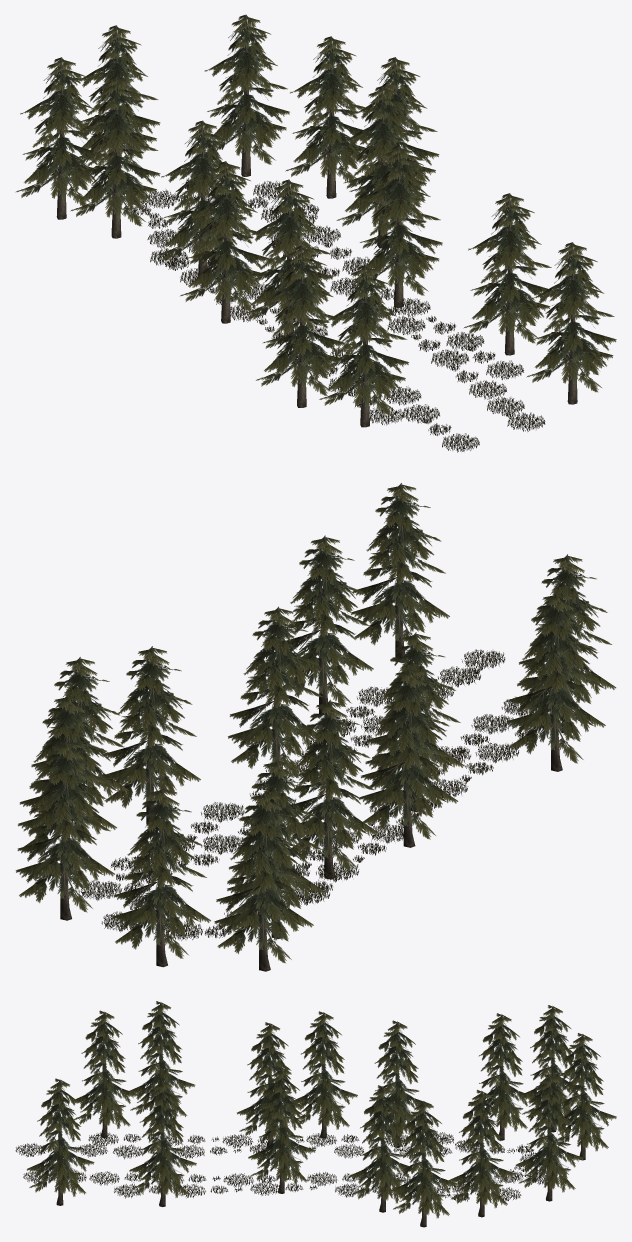
File: forest-scene.glb
3 views of the same model, one above another, from view 1: azimuth 30°, elevation 25°; view 2: azimuth 150°, elevation 25°; view 3: azimuth 270°, elevation 25° (orthographic). The views are drawn at different scales.
Parts seen in each view (by area): view 1: Branches_Branches_lp_0.007, Branches_Branches_lp_0.006, Branches_Branches_lp_0.009, Branches_Branches_lp_0.005, Branches_Branches_lp_0.001, Branches_Branches_lp_0.008, Branches_Branches_lp_0.011, Branches_Branches_lp_0.003, Branches_Branches_lp_0.014, Branches_Branches_lp_0.012, Branches_Branches_lp_0.002, Branches (+3 smaller); view 2: Branches_Branches_lp_0.011, Branches_Branches_lp_0.014, Branches_Branches_lp_0.001, Branches_Branches_lp_0.008, Branches_Branches_lp_0.010, Branches_Branches_lp_0.003, Branches_Branches_lp_0.006, Branches_Branches_lp_0.004, Branches, Branches_Branches_lp_0.005, Branches_Branches_lp_0.012, Branches_Branches_lp_0.007 (+3 smaller); view 3: Branches_Branches_lp_0.013, Branches_Branches_lp_0.006, Branches_Branches_lp_0.012, Branches_Branches_lp_0.003, Branches_Branches_lp_0.005, Branches_Branches_lp_0.007, Branches_Branches_lp_0.011, Branches_Branches_lp_0.001, Branches_Branches_lp_0.004, Branches_Branches_lp_0.010, Branches_Branches_lp_0.009, Branches_Branches_lp_0.008 (+3 smaller).
Part boxes in pixels (box(x1,y1,x2,y2)): Branches_Branches_lp_0.007: box(319, 265, 408, 414); Branches_Branches_lp_0.006: box(526, 242, 616, 392); Branches_Branches_lp_0.009: box(70, 76, 160, 226); Branches_Branches_lp_0.005: box(463, 193, 552, 343); Branches_Branches_lp_0.001: box(179, 161, 269, 311); Branches_Branches_lp_0.008: box(256, 245, 345, 395); Branches_Branches_lp_0.011: box(204, 14, 289, 164); Branches_Branches_lp_0.003: box(352, 145, 442, 295); Branches_Branches_lp_0.014: box(15, 57, 103, 205); Branches_Branches_lp_0.012: box(285, 36, 371, 186); Branches_Branches_lp_0.002: box(242, 179, 332, 329); Branches: box(156, 120, 246, 265); Branches_Branches_lp_0.011: box(15, 740, 114, 912); Branches_Branches_lp_0.014: box(214, 791, 313, 963); Branches_Branches_lp_0.001: box(359, 668, 458, 839); Branches_Branches_lp_0.008: box(506, 592, 605, 763); Branches_Branches_lp_0.010: box(112, 787, 210, 958); Branches_Branches_lp_0.003: box(228, 606, 322, 778); Branches_Branches_lp_0.006: box(351, 483, 449, 650); Branches_Branches_lp_0.004: box(104, 646, 200, 809); Branches: box(284, 699, 378, 871); Branches_Branches_lp_0.005: box(282, 535, 373, 706); Branches_Branches_lp_0.012: box(18, 694, 116, 862); Branches_Branches_lp_0.007: box(517, 554, 616, 725); Branches_Branches_lp_0.013: box(390, 1100, 457, 1218); Branches_Branches_lp_0.006: box(26, 1078, 94, 1196); Branches_Branches_lp_0.012: box(448, 1089, 515, 1208); Branches_Branches_lp_0.003: box(248, 1066, 315, 1184); Branches_Branches_lp_0.005: box(129, 1079, 196, 1197); Branches_Branches_lp_0.007: box(71, 1010, 138, 1128); Branches_Branches_lp_0.011: box(516, 1074, 583, 1192); Branches_Branches_lp_0.001: box(293, 1011, 357, 1129); Branches_Branches_lp_0.004: box(349, 1085, 416, 1203); Branches_Branches_lp_0.010: box(551, 1033, 616, 1151); Branches_Branches_lp_0.009: box(468, 1013, 534, 1131); Branches_Branches_lp_0.008: box(129, 1001, 195, 1118).
Size of the model in its own units: 71.4 by 31.52 by 137.
64 materials, 64 textured.
